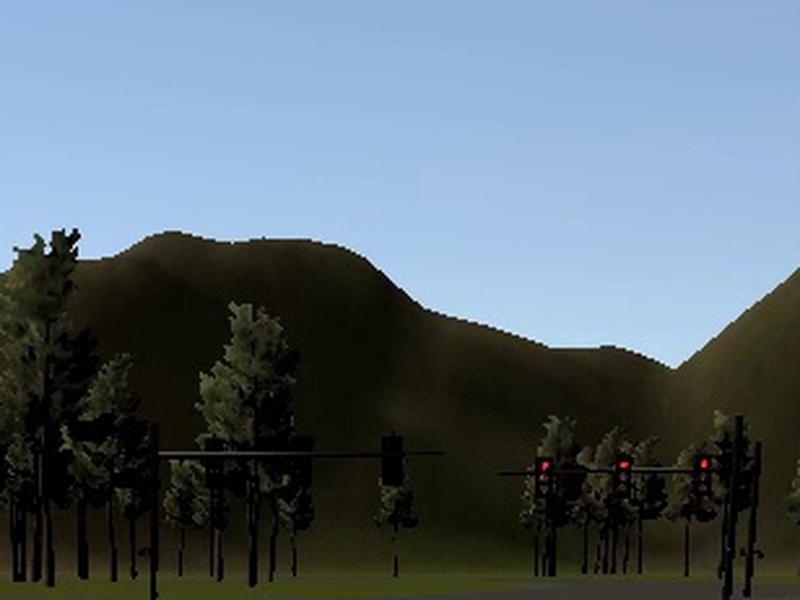Red: (693, 455, 714, 496), (535, 457, 553, 500), (614, 458, 631, 498)
